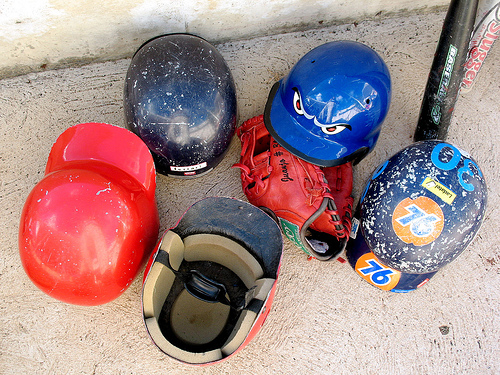helmet: (40, 136, 160, 305), (122, 40, 246, 153), (275, 40, 393, 144), (375, 158, 485, 268)
